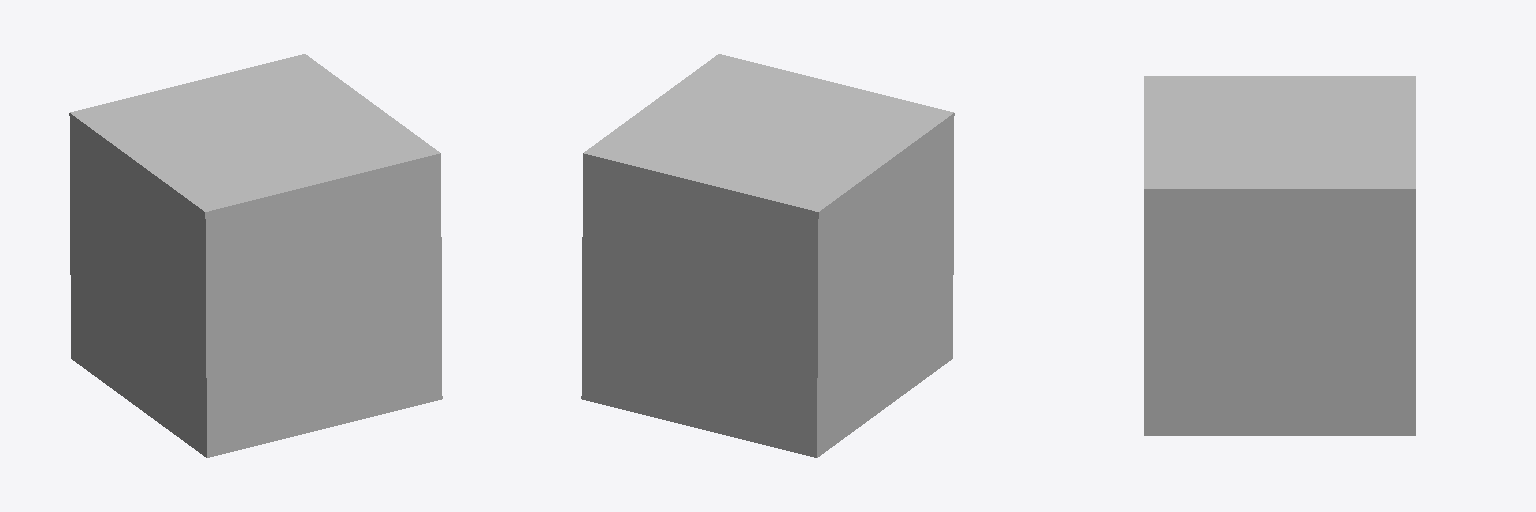
The model's file is steve_ca.obj.
3 views of the same model, side by side, from view 1: azimuth 30°, elevation 25°; view 2: azimuth 150°, elevation 25°; view 3: azimuth 270°, elevation 25° (orthographic).
Visible parts, largest first — view 1: mesh01; view 2: mesh01; view 3: mesh01.
Boxes of the visible parts, <box> form: mesh01: <box>69,54,442,457</box>; mesh01: <box>581,54,954,457</box>; mesh01: <box>1144,76,1415,435</box>.
Size of the model in its own units: 2.01 by 2.01 by 2.